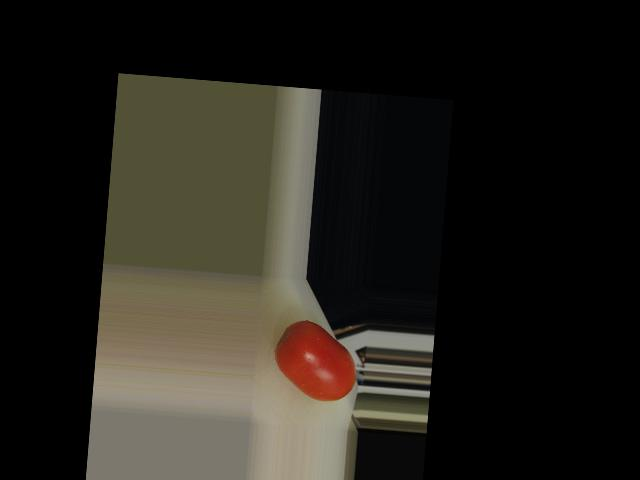tomato: (271, 318, 360, 403)
